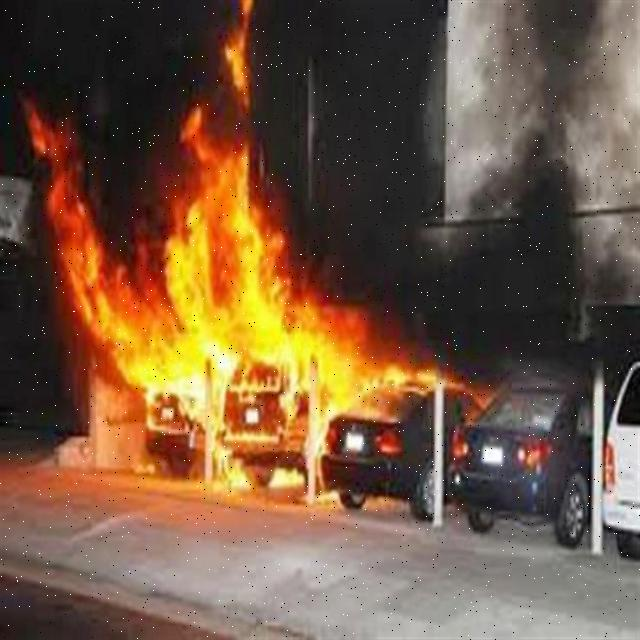fire: (206, 123, 288, 361), (96, 264, 203, 374), (44, 117, 84, 315), (304, 302, 374, 392), (168, 192, 196, 296), (230, 3, 256, 101)
smoke: (391, 34, 613, 323)
